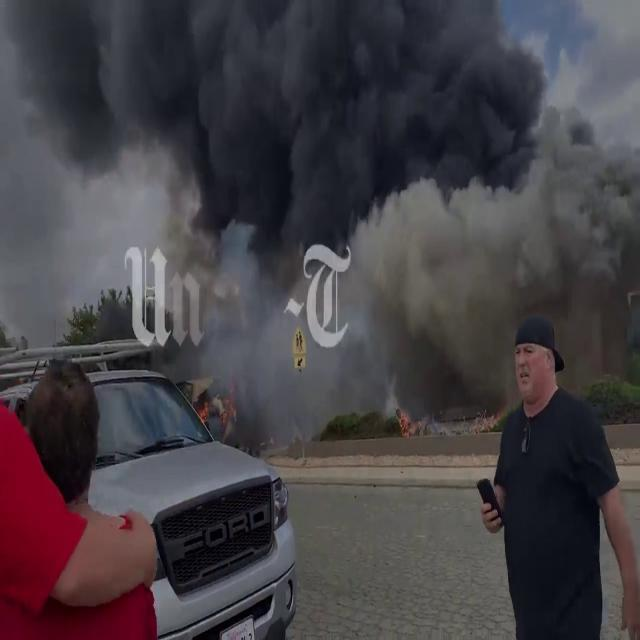Smoke: (2, 0, 546, 388)
